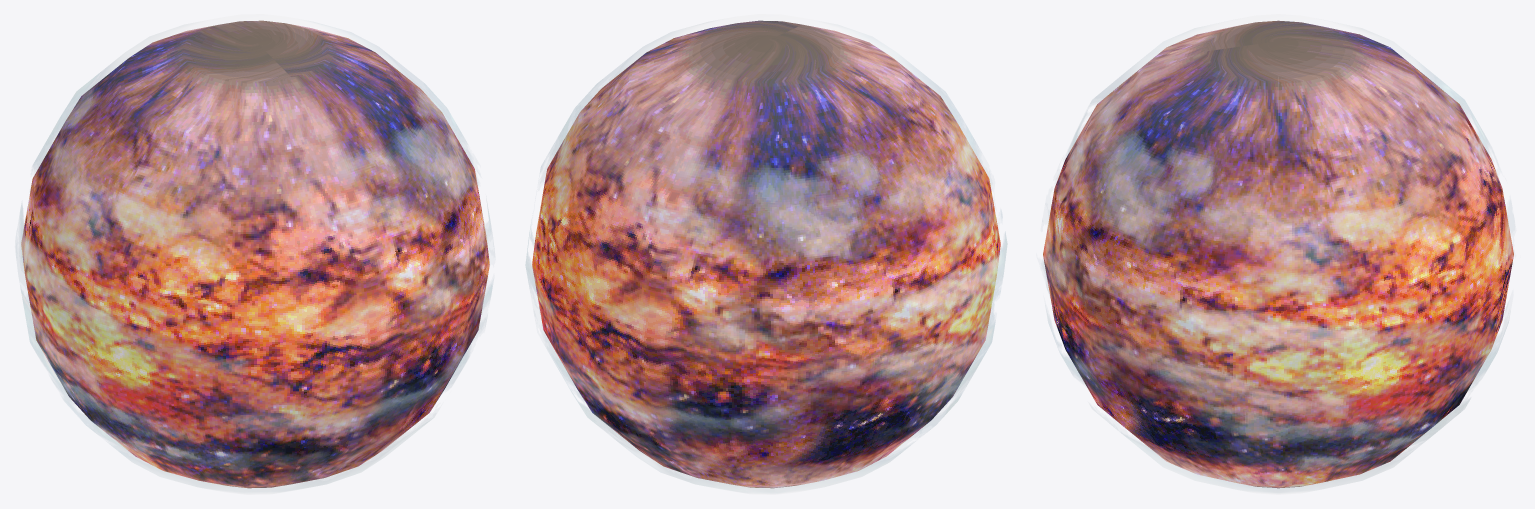
File: planet_gasorange_cmp.gltf
The picture shows the model from 3 angles, left to right: view 1: azimuth 30°, elevation 25°; view 2: azimuth 150°, elevation 25°; view 3: azimuth 270°, elevation 25°; orthographic projection.
Visible parts, largest first — view 1: Root, clouds; view 2: Root, clouds; view 3: Root, clouds.
Part boxes in pixels (bbox=[...]): Root: bbox=[21, 20, 489, 488]; clouds: bbox=[16, 14, 492, 494]; Root: bbox=[532, 20, 1000, 488]; clouds: bbox=[525, 14, 1007, 494]; Root: bbox=[1043, 20, 1513, 488]; clouds: bbox=[1042, 14, 1509, 494].
Size of the model in its own units: 44.28 by 44.28 by 44.28.
2 materials, 2 textured.
